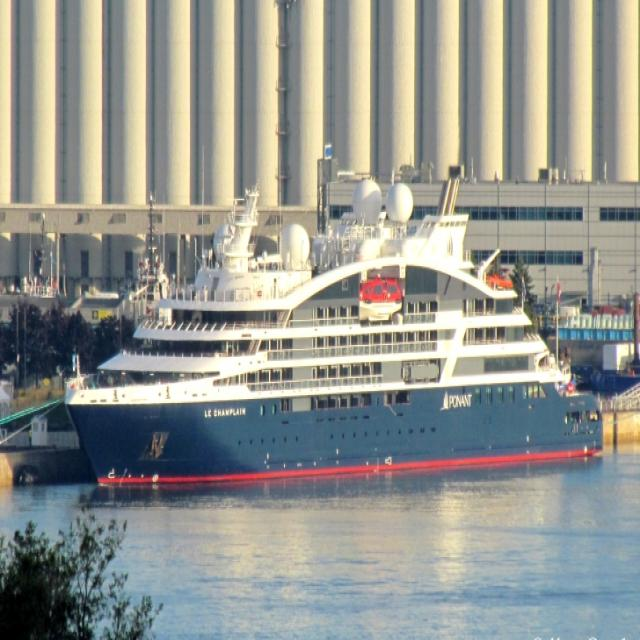cruises: (56, 157, 619, 493)
